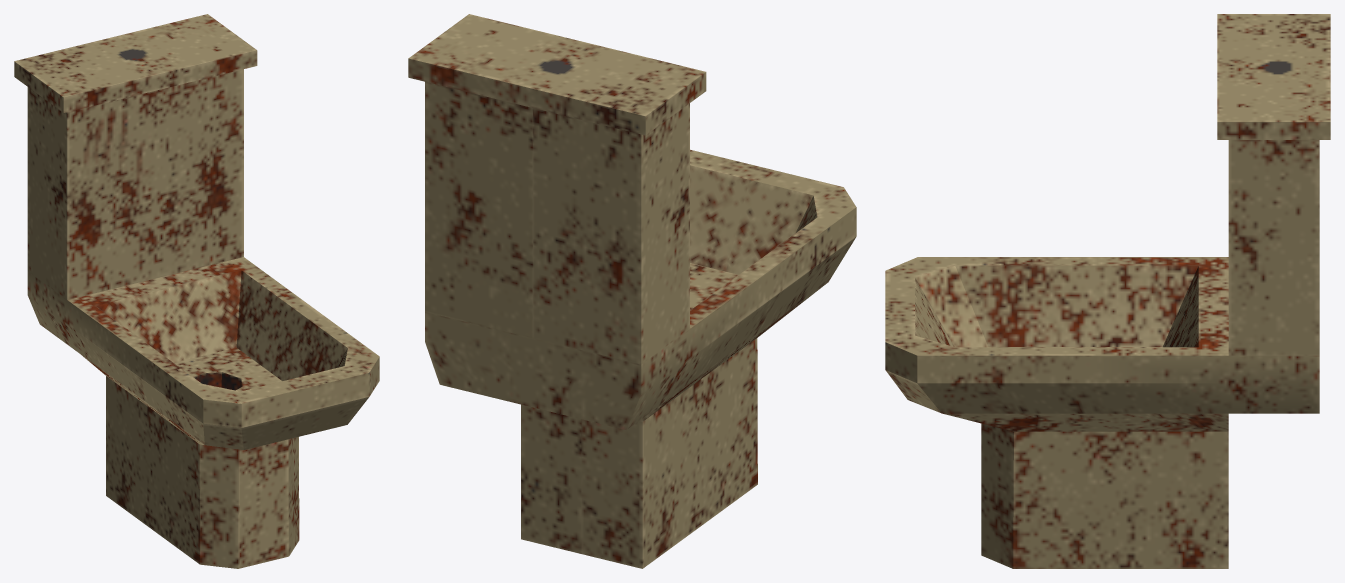
Rendered from toilet.fbx.
3 renders of one model, left to right at view 1: azimuth 30°, elevation 25°; view 2: azimuth 150°, elevation 25°; view 3: azimuth 270°, elevation 25°, orthographic. The views are drawn at different scales.
Parts seen in each view (by area): view 1: toilet; view 2: toilet; view 3: toilet.
Part boxes in pixels (x1,y1,x2,y2): toilet: (14, 14, 379, 568); toilet: (408, 14, 856, 568); toilet: (885, 14, 1330, 568).
Bounding box in the file's own units: 40.35 × 82.35 × 70.27.
Materials: 1 (1 with a texture image).
